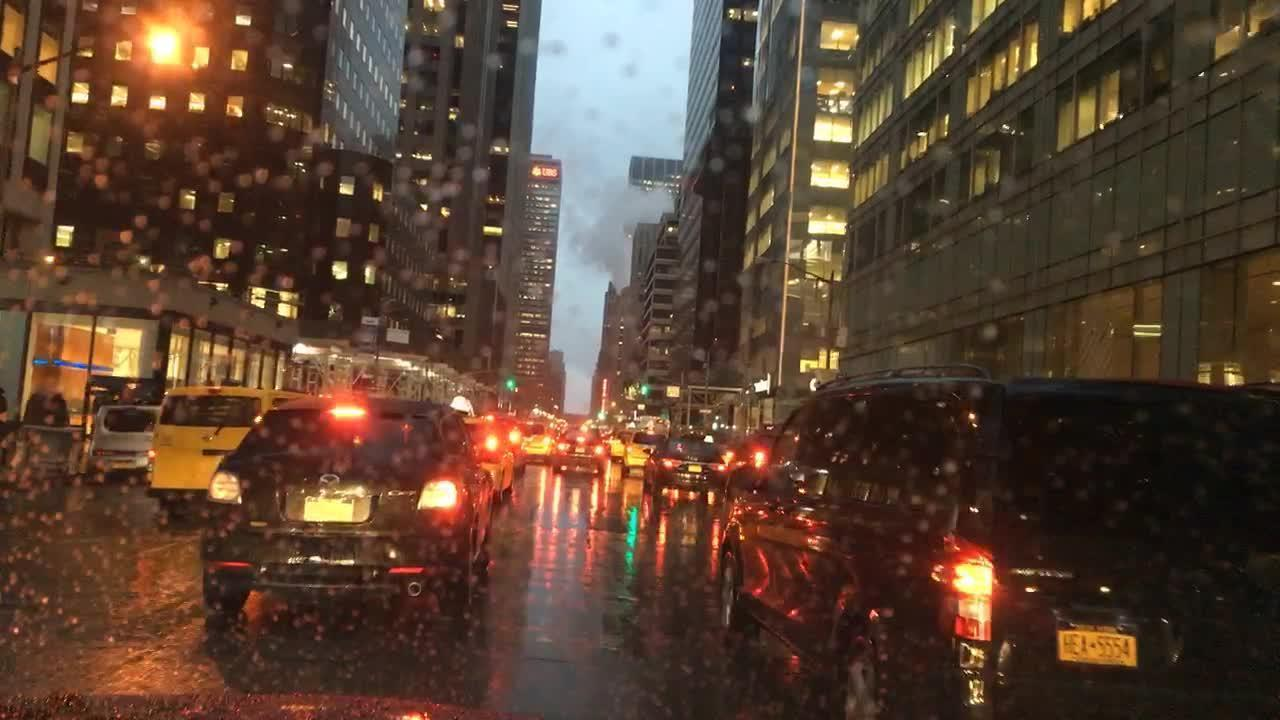Mazda: (314, 469, 345, 498)
